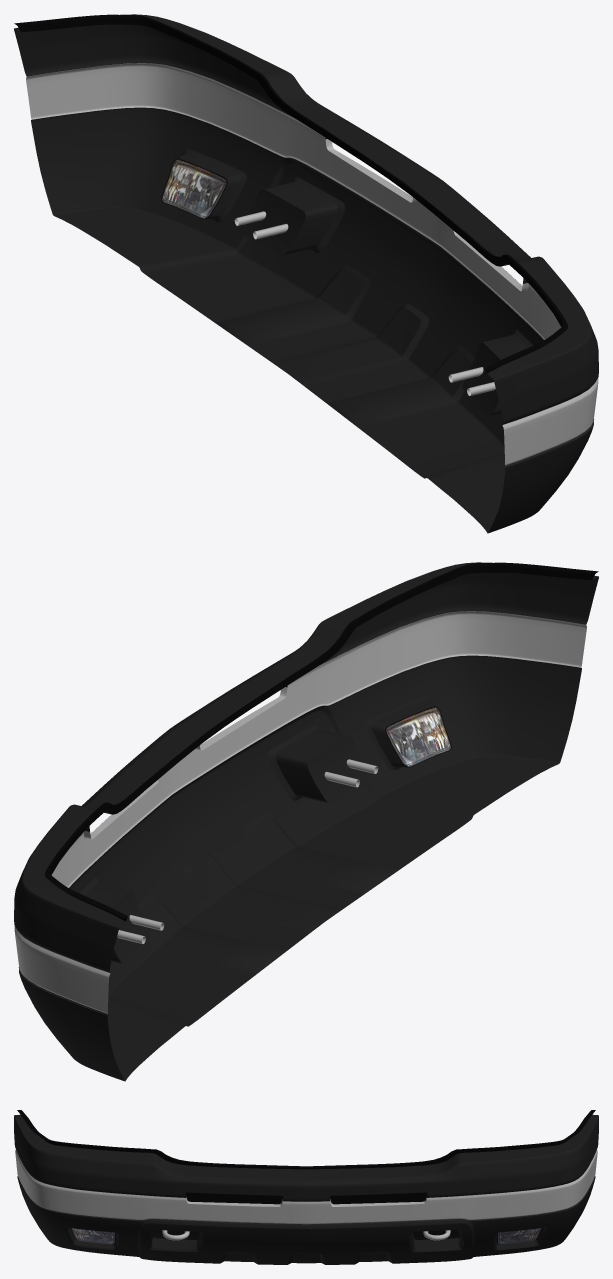
3 views of the same model, one above another, from view 1: azimuth 30°, elevation 25°; view 2: azimuth 150°, elevation 25°; view 3: azimuth 270°, elevation 25° (orthographic). The views are drawn at different scales.
Visible parts, largest first — view 1: U803_3A_021G_C_U803_3A_021G_C_1_D, U803_3A_021G_C_U803_3A_021G_C_1_D_E, U803_3A_021G_C_U803_3A_021G_C_5_DaS, U803_3A_021G_C_U803_3A_021G_C_2_D, U803_3A_021G_C_4_N_U803_3A_021G_C, U803_3A_021G_C_U803_3A_021G_C_3_DaS; view 2: U803_3A_021G_C_U803_3A_021G_C_1_D, U803_3A_021G_C_U803_3A_021G_C_1_D_E, U803_3A_021G_C_U803_3A_021G_C_5_DaS, U803_3A_021G_C_U803_3A_021G_C_2_D, U803_3A_021G_C_4_N_U803_3A_021G_C, U803_3A_021G_C_U803_3A_021G_C_3_DaS; view 3: U803_3A_021G_C_U803_3A_021G_C_1_D, U803_3A_021G_C_U803_3A_021G_C_5_DaS, U803_3A_021G_C_U803_3A_021G_C_1_D_E, U803_3A_021G_C_U803_3A_021G_C_2_D, U803_3A_021G_C_4_N_U803_3A_021G_C, U803_3A_021G_C_U803_3A_021G_C_7_DTaSI, U803_3A_021G_C_U803_3A_021G_C_6_DTaSI, U803_3A_021G_C_U803_3A_021G_C_3_DaS.
Boxes of the visible parts, x1,y1,x2,y2 form: U803_3A_021G_C_U803_3A_021G_C_1_D: (14,24,598,533); U803_3A_021G_C_U803_3A_021G_C_1_D_E: (14,14,593,533); U803_3A_021G_C_U803_3A_021G_C_5_DaS: (26,63,598,465); U803_3A_021G_C_U803_3A_021G_C_2_D: (14,14,567,373); U803_3A_021G_C_4_N_U803_3A_021G_C: (162,159,226,218); U803_3A_021G_C_U803_3A_021G_C_3_DaS: (234,211,495,395); U803_3A_021G_C_U803_3A_021G_C_1_D: (14,572,598,1081); U803_3A_021G_C_U803_3A_021G_C_1_D_E: (19,562,598,1081); U803_3A_021G_C_U803_3A_021G_C_5_DaS: (14,611,586,1013); U803_3A_021G_C_U803_3A_021G_C_2_D: (45,562,598,921); U803_3A_021G_C_4_N_U803_3A_021G_C: (386,707,450,766); U803_3A_021G_C_U803_3A_021G_C_3_DaS: (117,759,378,943); U803_3A_021G_C_U803_3A_021G_C_1_D: (14,1115,598,1264); U803_3A_021G_C_U803_3A_021G_C_5_DaS: (15,1150,597,1224); U803_3A_021G_C_U803_3A_021G_C_1_D_E: (14,1114,598,1264); U803_3A_021G_C_U803_3A_021G_C_2_D: (17,1110,595,1244); U803_3A_021G_C_4_N_U803_3A_021G_C: (71,1228,541,1243); U803_3A_021G_C_U803_3A_021G_C_7_DTaSI: (498,1228,541,1244); U803_3A_021G_C_U803_3A_021G_C_6_DTaSI: (71,1228,114,1244); U803_3A_021G_C_U803_3A_021G_C_3_DaS: (162,1230,450,1240).
Bounding box in the file's own units: 40.74 × 37.75 × 175.
